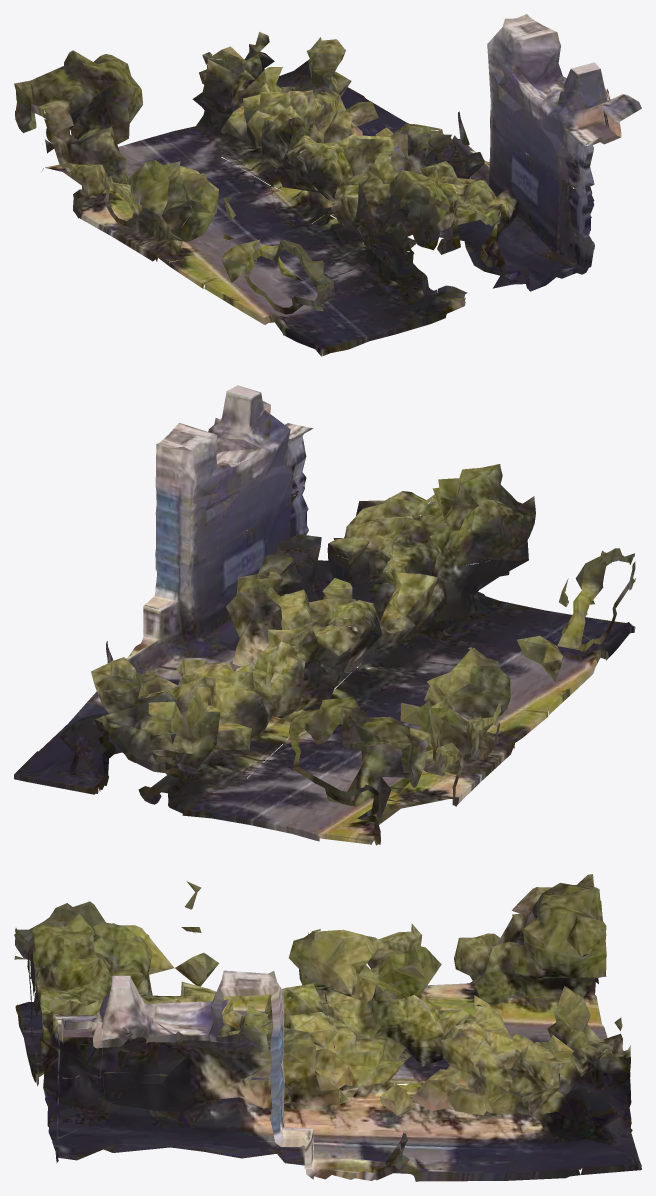
The picture shows the model from 3 angles, top to bottom: view 1: azimuth 30°, elevation 25°; view 2: azimuth 150°, elevation 25°; view 3: azimuth 270°, elevation 25°; orthographic projection. The views are drawn at different scales.
Parts seen in each view (by area): view 1: Mesh_0; view 2: Mesh_0; view 3: Mesh_0.
Boxes of the visible parts, x1,y1,x2,y2 form: Mesh_0: [14, 14, 641, 356]; Mesh_0: [14, 385, 635, 845]; Mesh_0: [14, 874, 641, 1181].
Size of the model in its own units: 66.93 by 30.64 by 82.69.
1 material, 1 textured.
